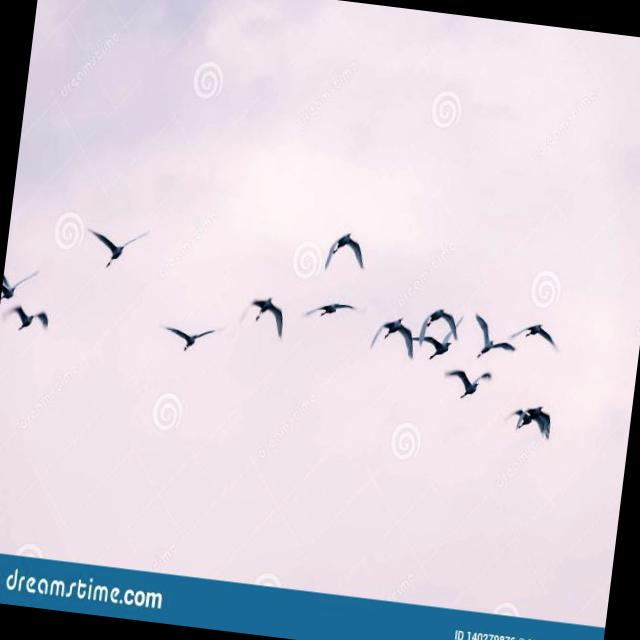bird: (359, 288, 432, 366), (80, 216, 158, 274), (408, 286, 466, 356), (507, 300, 567, 363), (315, 225, 379, 282), (440, 368, 498, 428), (240, 286, 294, 346), (471, 310, 522, 369), (509, 398, 559, 458), (300, 291, 375, 330), (162, 312, 214, 366), (420, 331, 470, 378), (2, 298, 52, 334)
